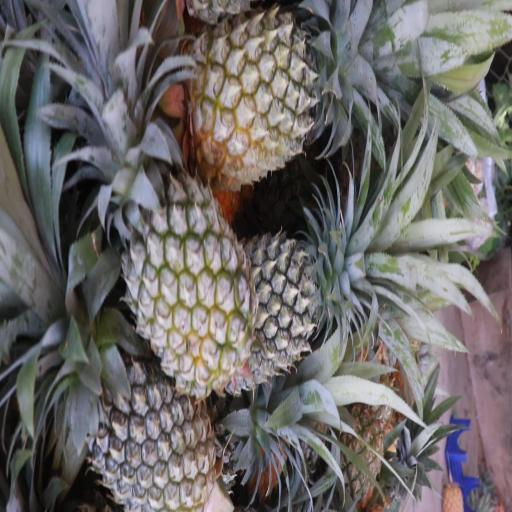------------------------------: (123, 164, 249, 383), (184, 22, 349, 180)
